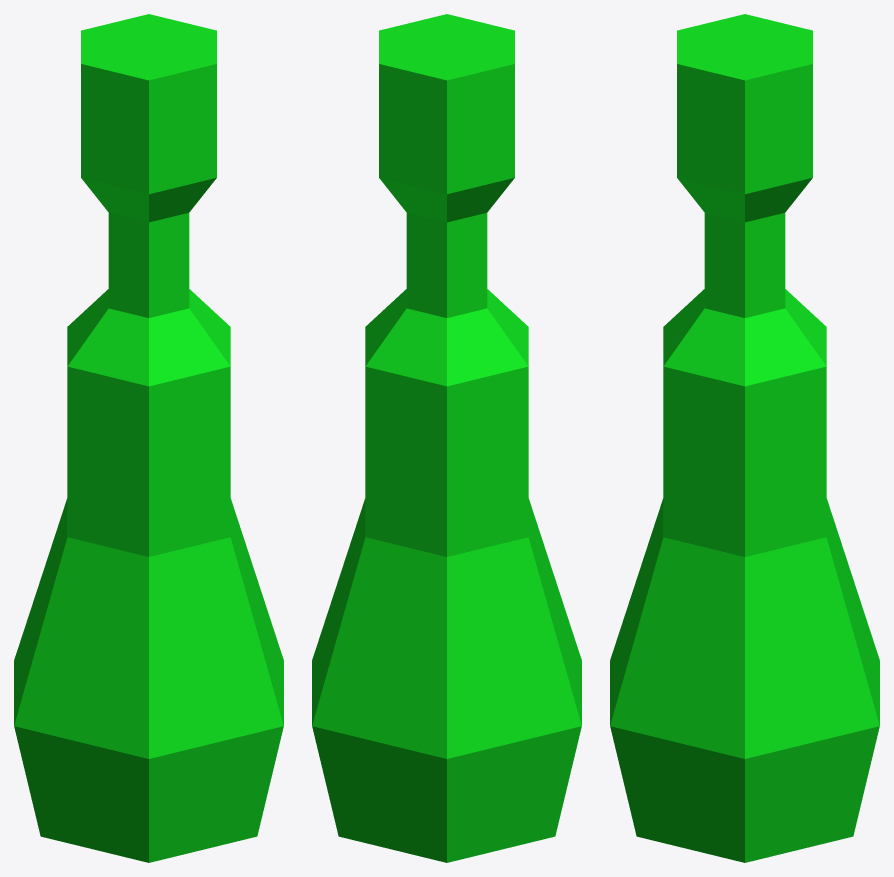
The model's file is SM_Prop_Lighting_Cable_Bulb_01.obj.
3 views of the same model, side by side, from view 1: azimuth 30°, elevation 25°; view 2: azimuth 150°, elevation 25°; view 3: azimuth 270°, elevation 25° (orthographic).
Visible parts, largest first — view 1: SM_Prop_Lighting_Cable_Bulb_01_0; view 2: SM_Prop_Lighting_Cable_Bulb_01_0; view 3: SM_Prop_Lighting_Cable_Bulb_01_0.
Boxes of the visible parts, <box> form: SM_Prop_Lighting_Cable_Bulb_01_0: <box>14,14,283,862</box>; SM_Prop_Lighting_Cable_Bulb_01_0: <box>312,14,581,862</box>; SM_Prop_Lighting_Cable_Bulb_01_0: <box>610,14,879,862</box>.
Size of the model in its own units: 0.1091 by 0.3106 by 0.0945.
